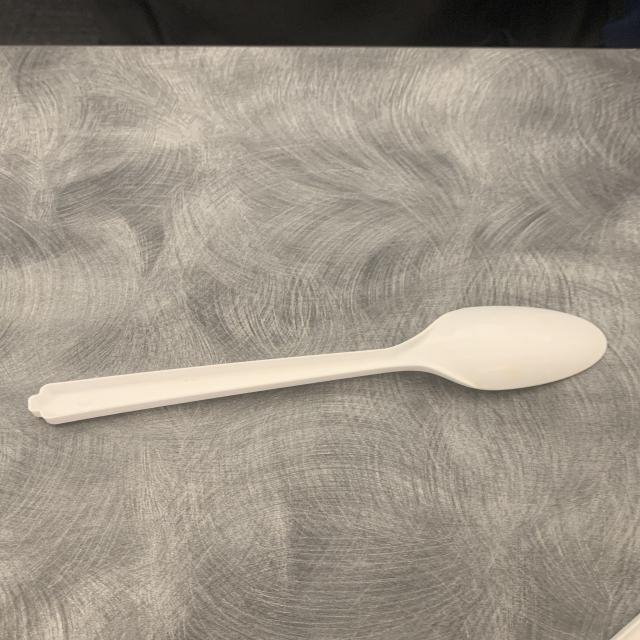spoon: (18, 292, 638, 447)
